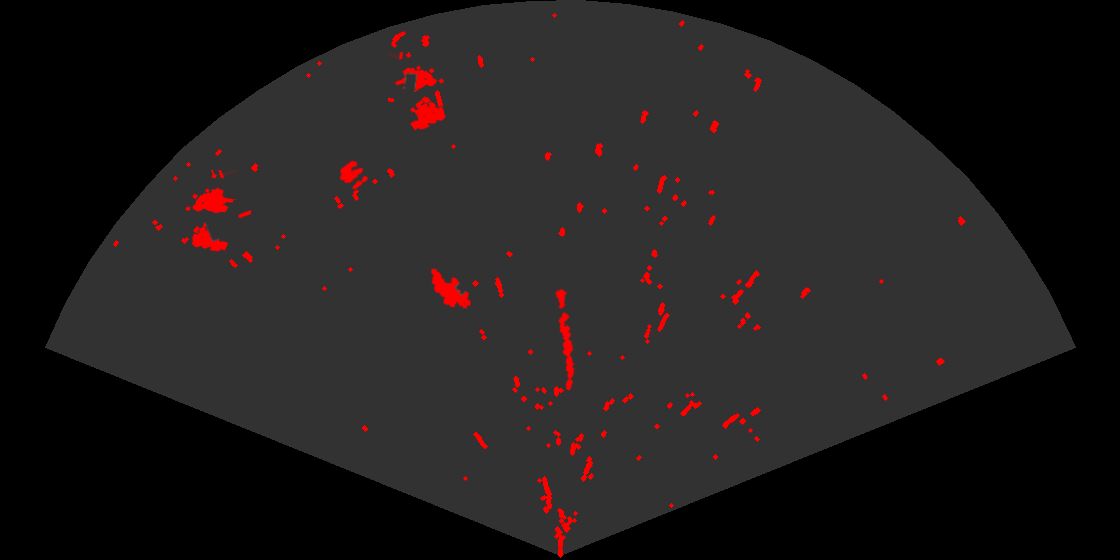AUV: (429, 266, 473, 311)
ball: (338, 159, 370, 191)
cage: (184, 170, 251, 253), (388, 52, 447, 132)
chain: (554, 286, 576, 392)
